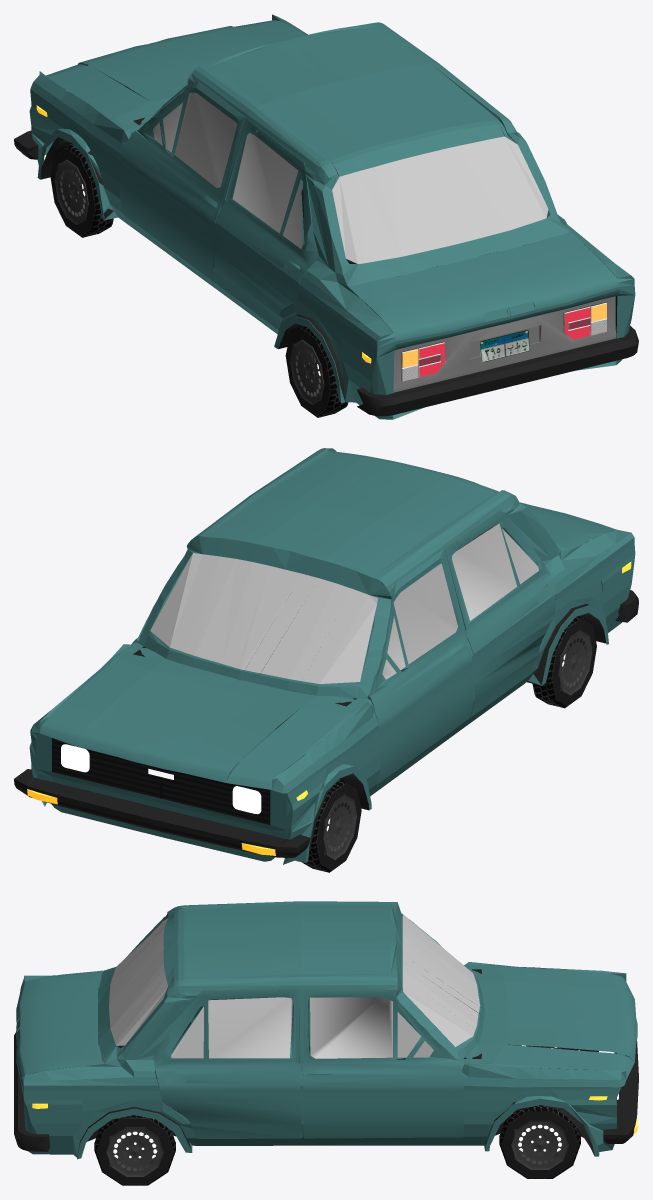
File: FIAT 128.fbx
The picture shows the model from 3 angles, top to bottom: view 1: azimuth 30°, elevation 25°; view 2: azimuth 150°, elevation 25°; view 3: azimuth 270°, elevation 25°; orthographic projection. The views are drawn at different scales.
Parts seen in each view (by area): view 1: Body, Back, DoorFL, DoorRL, Hood, BackShell, BackSide, BackLight, Tire, Tire_1, Disc, Gant_3 (+2 smaller); view 2: Body, Hood, DoorFL, DoorRL, ForntShell, Greal, Tire_1, Tire, Back, Disc, Gant_3, Gant_4 (+1 smaller); view 3: Body, DoorFR, DoorRR, Hood, Back, Tire_3, Tire_2, Gant_2, Gant, ForntShell, BackShell, Disc.
Part boxes in pixels (x1,y1,x2,y2): Body: (29, 14, 635, 419); Back: (348, 231, 619, 349); DoorFL: (120, 88, 245, 283); DoorRL: (215, 119, 318, 329); Hood: (46, 20, 303, 118); BackShell: (357, 326, 638, 416); BackSide: (393, 296, 616, 392); BackLight: (401, 302, 606, 381); Tire: (50, 144, 113, 237); Tire_1: (285, 325, 348, 417); Disc: (40, 117, 617, 400); Gant_3: (290, 339, 324, 404); Body: (29, 448, 635, 864); Hood: (40, 658, 348, 789); DoorFL: (370, 549, 473, 784); DoorRL: (445, 510, 555, 716); ForntShell: (14, 769, 310, 857); Greal: (52, 738, 270, 824); Tire_1: (532, 615, 596, 708); Tire: (302, 779, 361, 872); Back: (519, 502, 616, 550); Disc: (133, 527, 606, 857); Gant_3: (558, 630, 592, 695); Gant_4: (323, 794, 356, 859); Body: (21, 901, 634, 1159); DoorFR: (301, 987, 463, 1138); DoorRR: (153, 988, 301, 1138); Hood: (494, 966, 637, 1079); Back: (15, 970, 104, 1082); Tire_3: (499, 1105, 580, 1178); Tire_2: (94, 1115, 175, 1185); Gant_2: (106, 1127, 163, 1176); Gant: (511, 1120, 568, 1169); ForntShell: (603, 1041, 638, 1143); BackShell: (14, 1033, 49, 1151); Disc: (32, 969, 598, 1158).
Size of the model in its own units: 170 by 132 by 378.
Materials: 12 (6 with a texture image).
